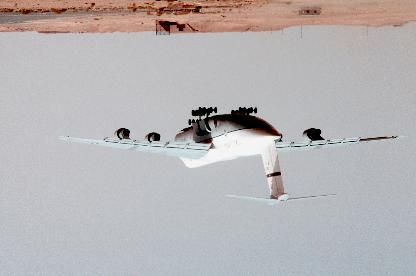C17: (58, 107, 408, 205)
